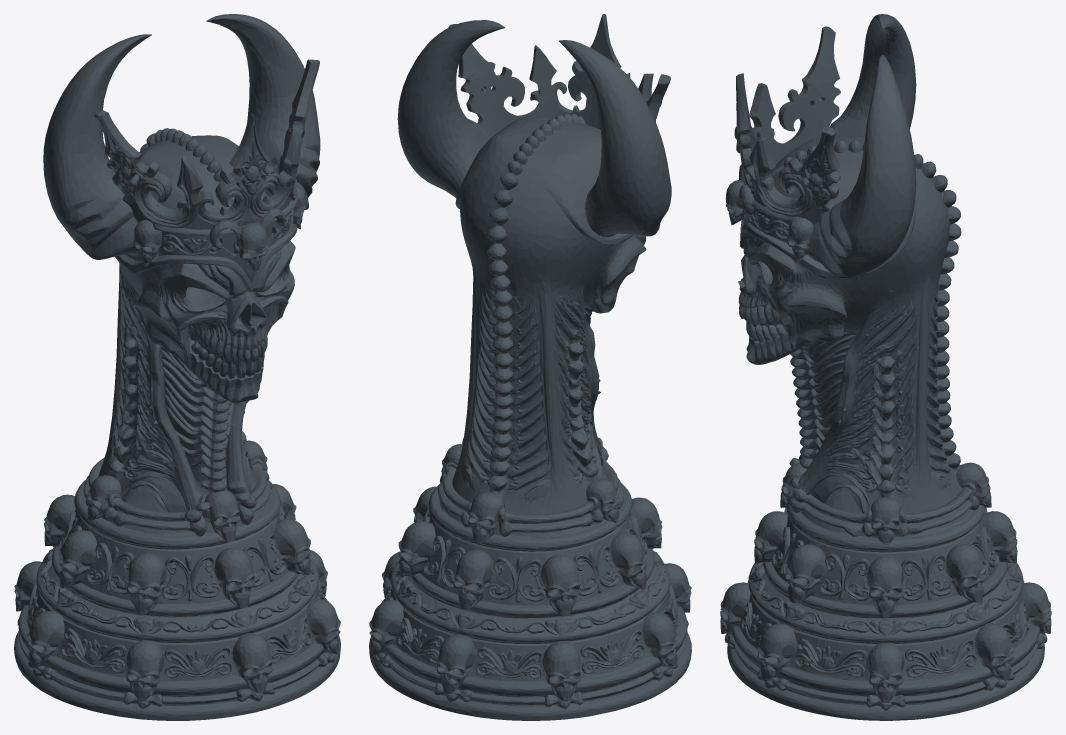
3 renders of one model, left to right at view 1: azimuth 30°, elevation 25°; view 2: azimuth 150°, elevation 25°; view 3: azimuth 270°, elevation 25°, orthographic. The views are drawn at different scales.
Visible parts, largest first — view 1: 3MF Object.010; view 2: 3MF Object.010; view 3: 3MF Object.010.
Part boxes in pixels (box(x1,y1,x2,y2)): 3MF Object.010: box(14, 14, 340, 720); 3MF Object.010: box(369, 14, 691, 720); 3MF Object.010: box(720, 14, 1051, 720).
Bounding box in the file's own units: 0.0421 × 0.0858 × 0.042.
1 material, 1 textured.
